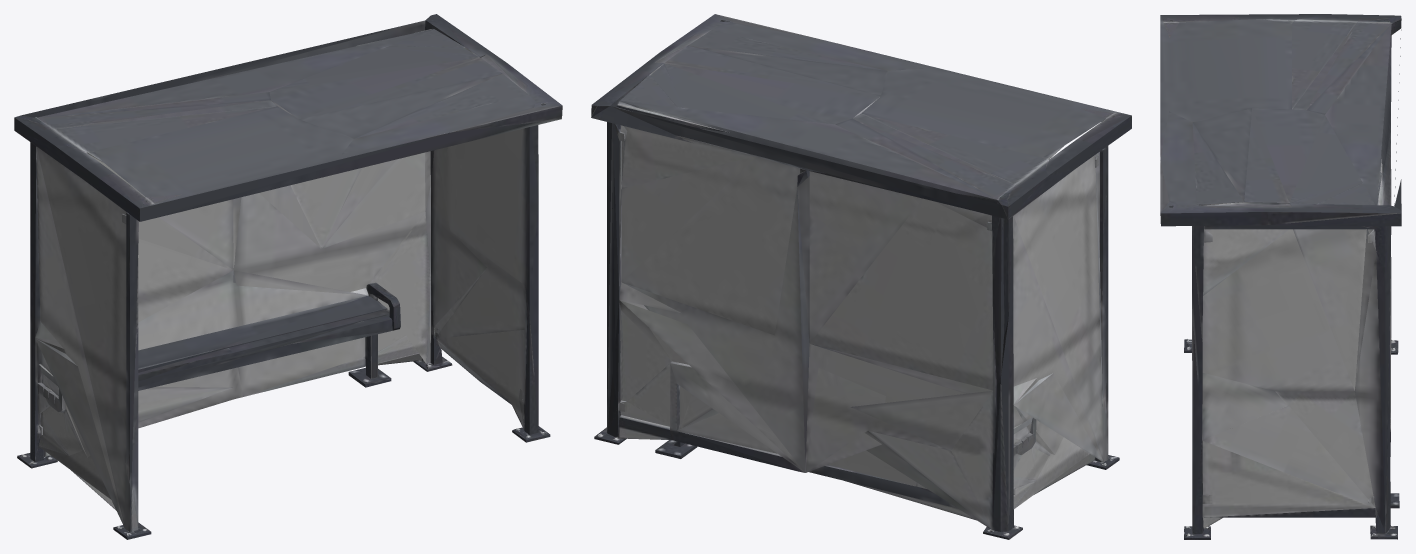
The model's file is prop_bus_shelter.glb.
The picture shows the model from 3 angles, left to right: view 1: azimuth 30°, elevation 25°; view 2: azimuth 150°, elevation 25°; view 3: azimuth 270°, elevation 25°; orthographic projection. The views are drawn at different scales.
Parts seen in each view (by area): view 1: Mesh_0; view 2: Mesh_0; view 3: Mesh_0.
Boxes of the visible parts, <box> form: Mesh_0: <box>14,14,562,539</box>; Mesh_0: <box>591,14,1131,539</box>; Mesh_0: <box>1160,14,1401,539</box>.
Size of the model in its own units: 1.9 by 1.48 by 0.9771.
1 material, 1 textured.
